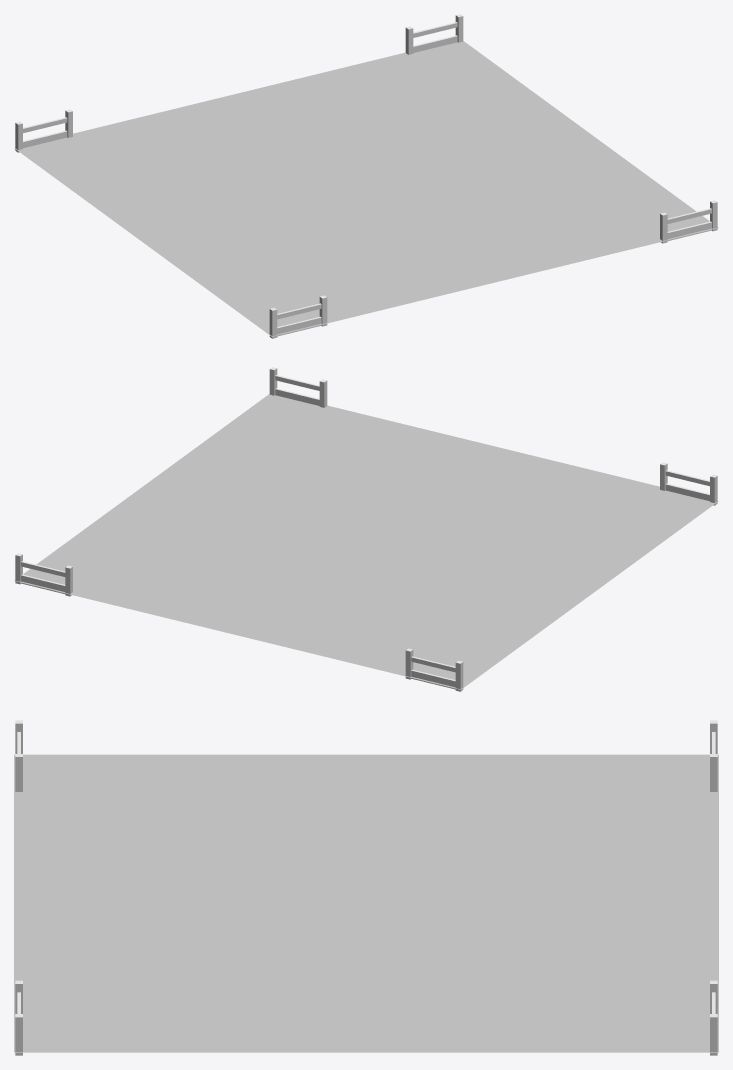
The model's file is tile_for_home_2x2_008.fbx.
3 renders of one model, top to bottom at view 1: azimuth 30°, elevation 25°; view 2: azimuth 150°, elevation 25°; view 3: azimuth 270°, elevation 25°, orthographic. The views are drawn at different scales.
Parts seen in each view (by area): view 1: tile_for_home_2x2_008; view 2: tile_for_home_2x2_008; view 3: tile_for_home_2x2_008.
Boxes of the visible parts, x1,y1,x2,y2 form: tile_for_home_2x2_008: [14, 14, 718, 338]; tile_for_home_2x2_008: [14, 367, 718, 691]; tile_for_home_2x2_008: [14, 720, 718, 1055].
Size of the model in its own units: 1600 by 95.9 by 1600.
